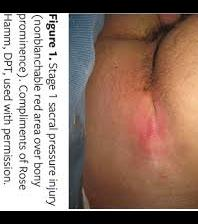Stage3: (114, 99, 186, 174)
